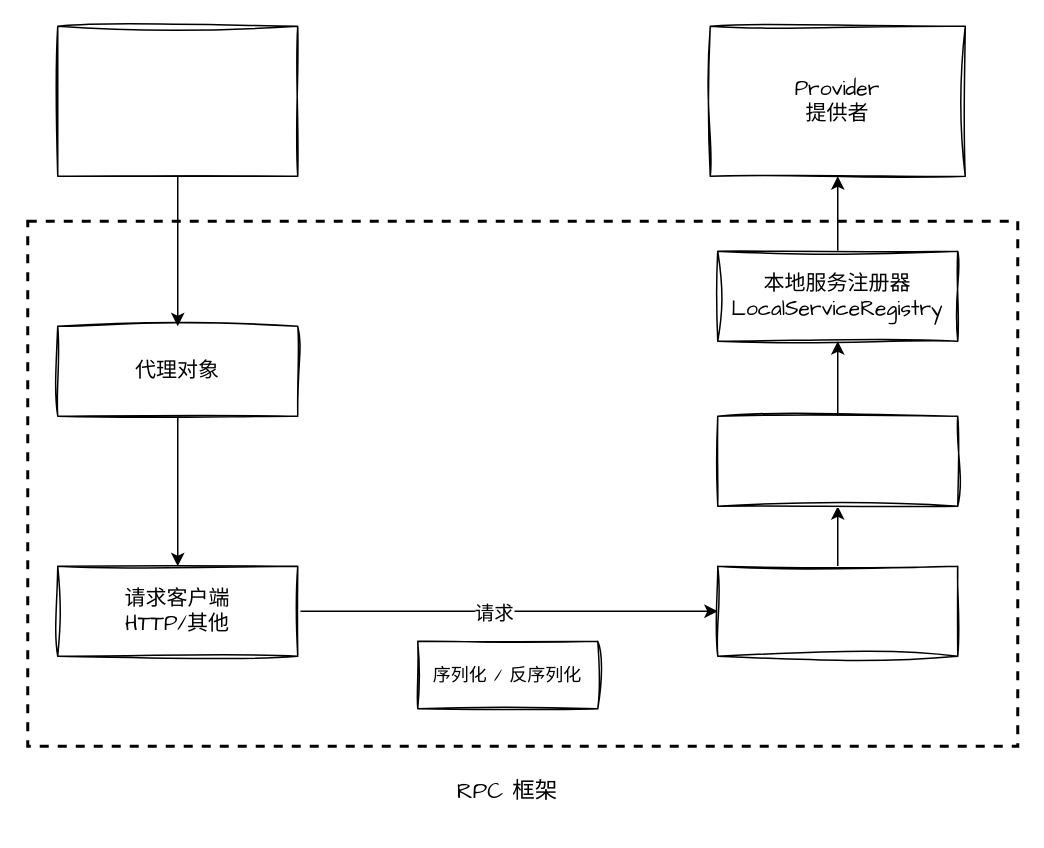
Image size: 1044x848. Some labels were removed from this diagram. The centre of each missing label's shape, as x and y in pixels:
"Consumer 消费者" goes at point 177,100.
"Web服务器" goes at point 837,610.
"请求处理器 RequestHandler" goes at point 837,460.
